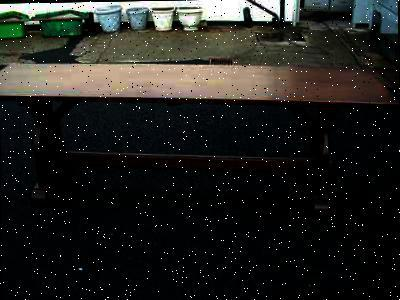Mesa: (0, 53, 399, 221)
